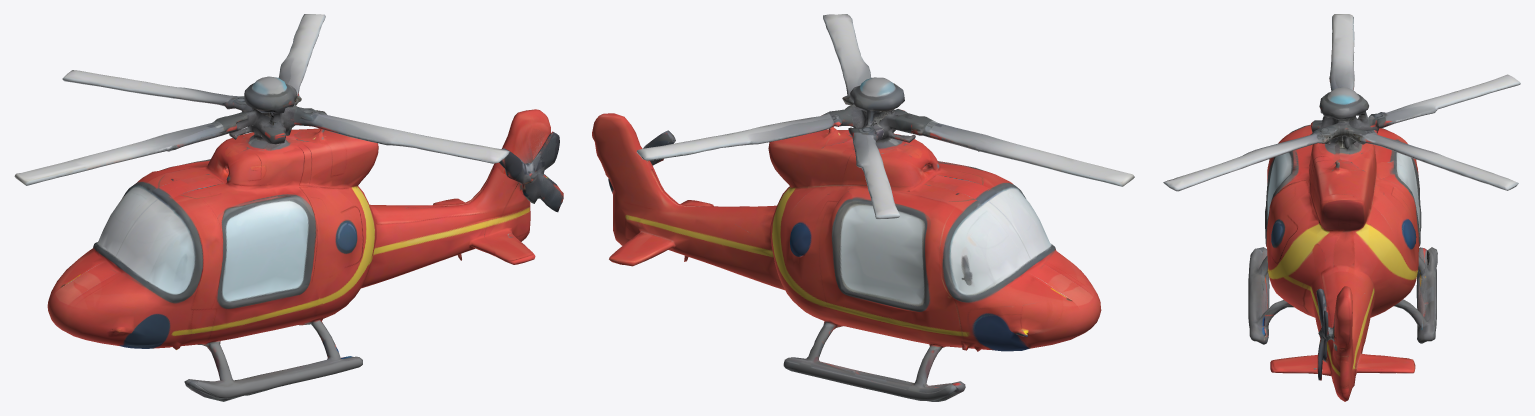
The model's file is helicopter.glb.
The picture shows the model from 3 angles, left to right: view 1: azimuth 30°, elevation 25°; view 2: azimuth 150°, elevation 25°; view 3: azimuth 270°, elevation 25°; orthographic projection. The views are drawn at different scales.
Bounding box in the file's own units: 65598 × 31425 × 42790.
Materials: 1 (1 with a texture image).
